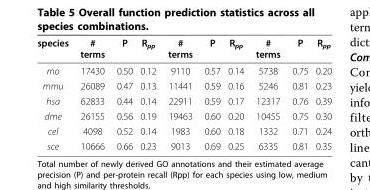table: (36, 36, 331, 151)
table column: (36, 36, 73, 151), (73, 36, 110, 151), (161, 36, 197, 151), (249, 36, 285, 151), (135, 36, 161, 151), (197, 36, 223, 151), (223, 36, 249, 151), (285, 36, 311, 151), (110, 36, 135, 151), (311, 36, 331, 151)
table column header: (36, 36, 331, 62)
table row: (36, 36, 331, 62), (36, 77, 331, 93), (36, 62, 331, 77), (36, 93, 331, 108), (36, 108, 331, 123), (36, 123, 331, 138), (36, 138, 331, 151)
